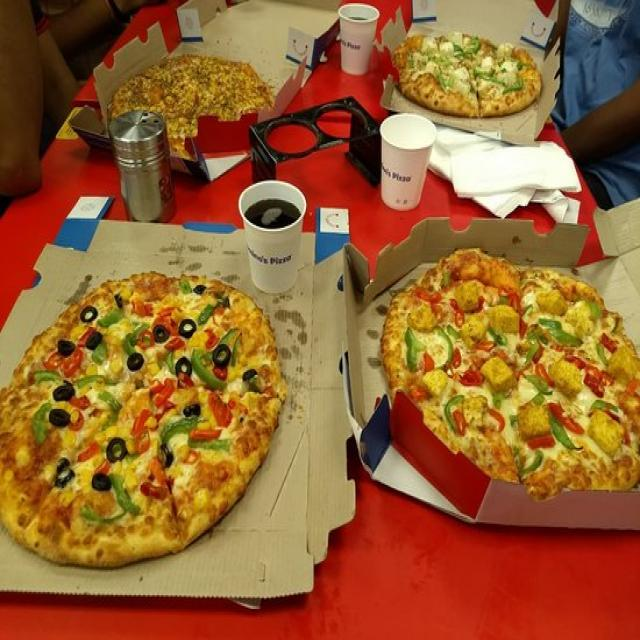pizza: (0, 268, 285, 566), (380, 243, 640, 489), (105, 52, 274, 159), (393, 30, 544, 119)
